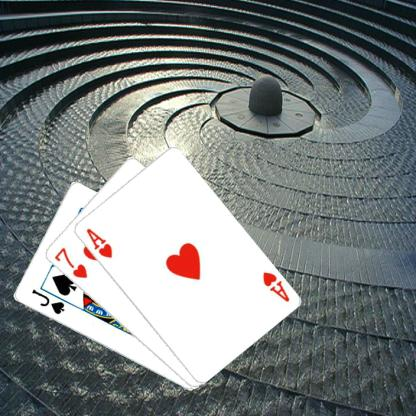7H: (52, 244, 89, 280)
AH: (259, 269, 291, 304), (84, 225, 113, 260)
JS: (29, 287, 66, 316)
